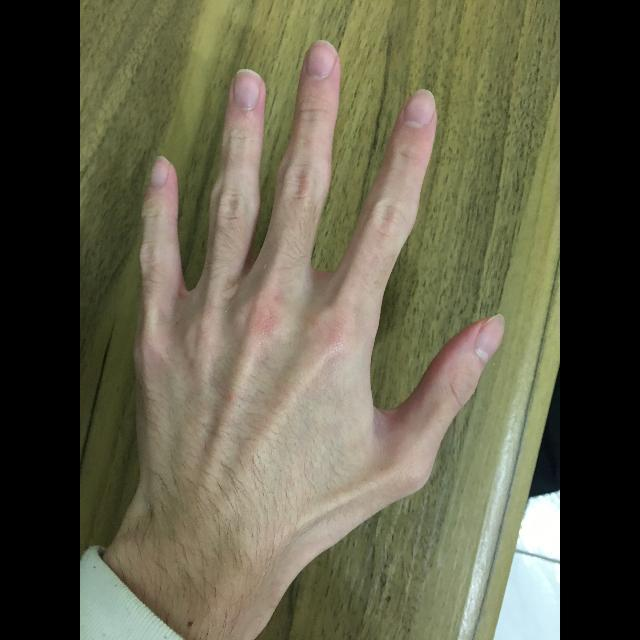bare_hand: (129, 38, 512, 527)
